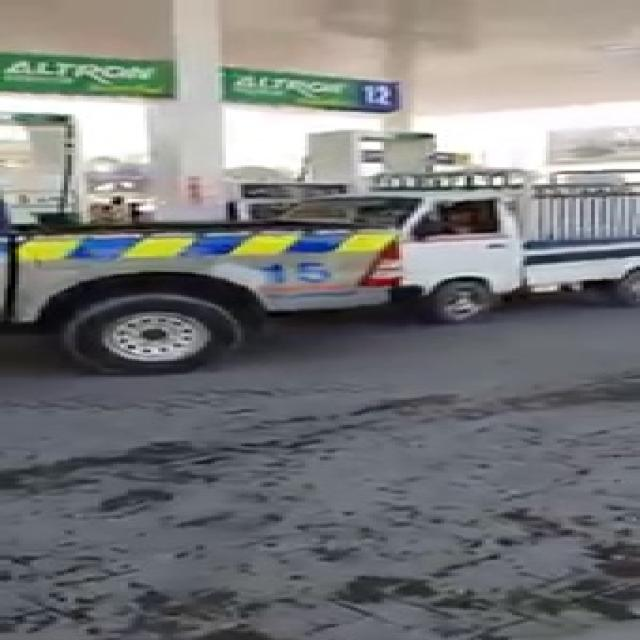police: (0, 127, 504, 396)
